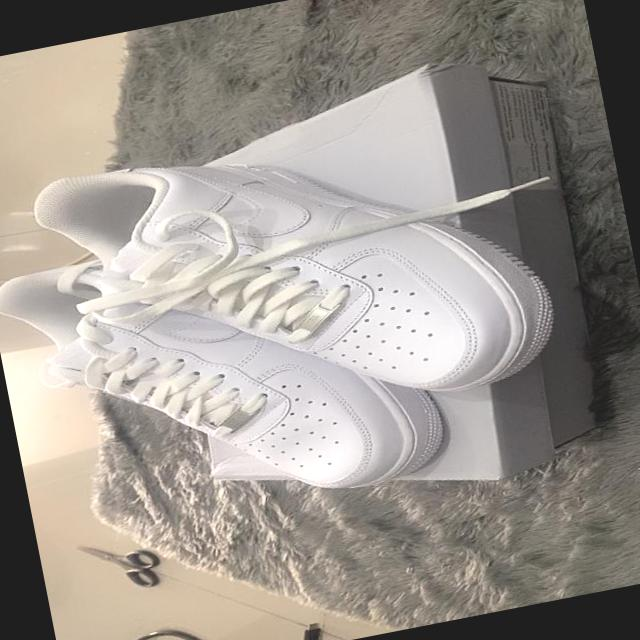nike_original_airforce: (36, 80, 568, 449), (0, 196, 459, 555)
